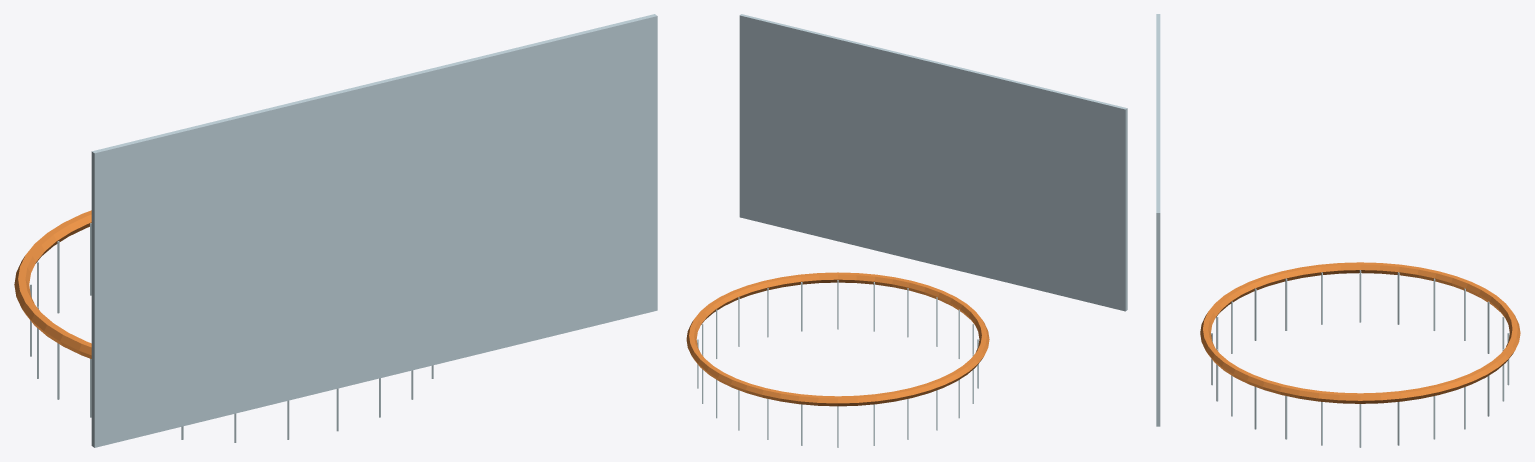
The model's file is hoops-basket.glb.
3 renders of one model, left to right at view 1: azimuth 30°, elevation 25°; view 2: azimuth 150°, elevation 25°; view 3: azimuth 270°, elevation 25°, orthographic. The views are drawn at different scales.
Visible parts, largest first — view 1: Hoops_Backboard, Hoops_Rim, Hoops_Net; view 2: Hoops_Backboard, Hoops_Rim, Hoops_Net; view 3: Hoops_Rim, Hoops_Net, Hoops_Backboard.
Part boxes in pixels (x1,y1,x2,y2): Hoops_Backboard: [91, 14, 657, 447]; Hoops_Rim: [14, 210, 91, 358]; Hoops_Net: [30, 223, 433, 442]; Hoops_Backboard: [739, 14, 1127, 311]; Hoops_Rim: [686, 272, 989, 406]; Hoops_Net: [697, 280, 978, 447]; Hoops_Rim: [1200, 262, 1520, 403]; Hoops_Net: [1211, 270, 1509, 447]; Hoops_Backboard: [1156, 14, 1160, 426].
Bounding box in the file's own units: 14 × 8.9 × 10.82.
